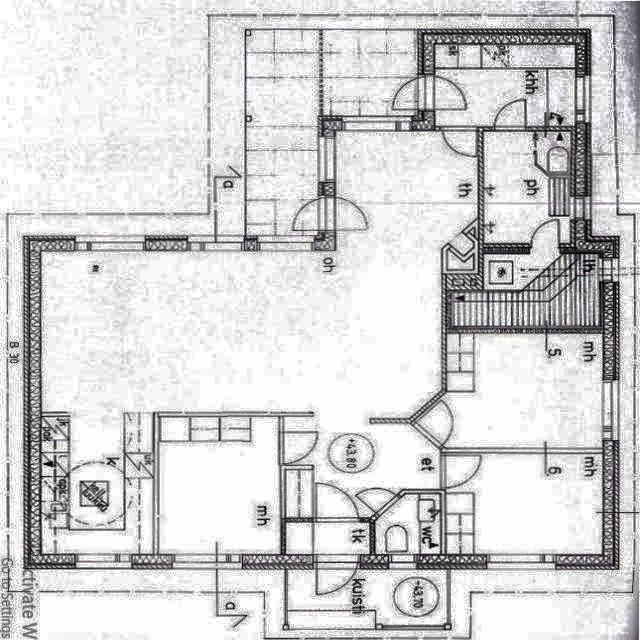room: (416, 333, 603, 448), (158, 417, 281, 554), (445, 452, 603, 554), (435, 44, 576, 126), (483, 131, 571, 244), (375, 494, 441, 554), (286, 522, 370, 554)
